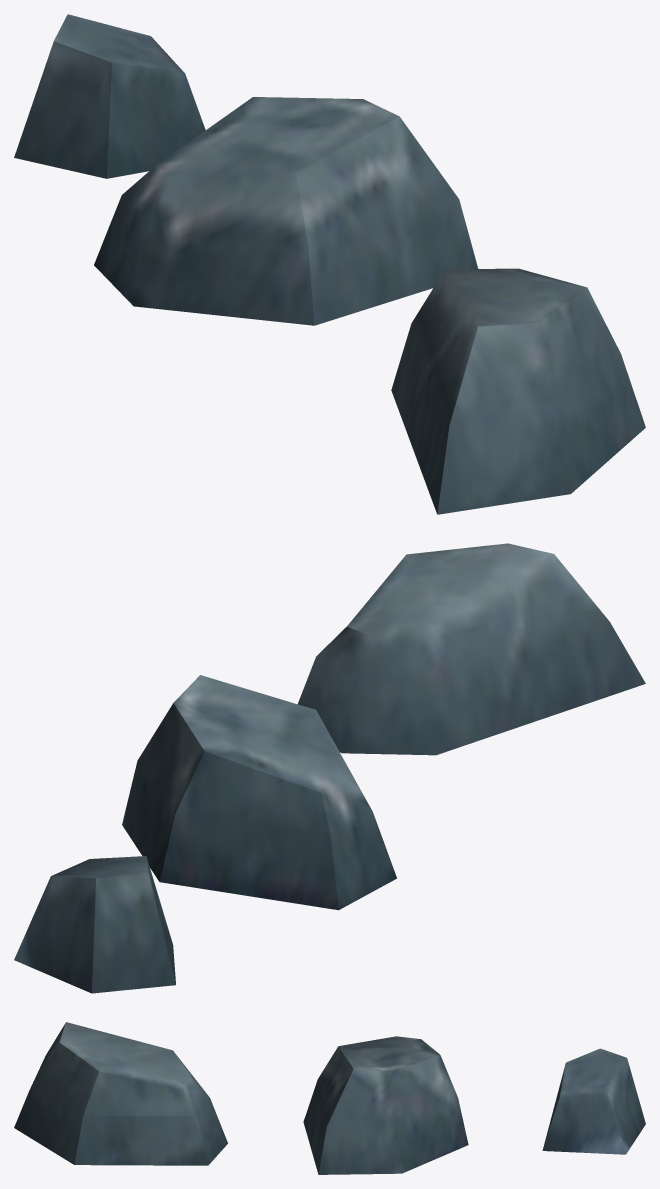
3 renders of one model, top to bottom at view 1: azimuth 30°, elevation 25°; view 2: azimuth 150°, elevation 25°; view 3: azimuth 270°, elevation 25°, orthographic. The views are drawn at different scales.
Parts seen in each view (by area): view 1: polySurface1; view 2: polySurface1; view 3: polySurface1.
Boxes of the visible parts, left/top/right/bottom form: polySurface1: left=14, top=14, right=645, bottom=514; polySurface1: left=14, top=543, right=645, bottom=993; polySurface1: left=14, top=1022, right=645, bottom=1174.
Bounding box in the file's own units: 6.19 × 3 × 18.88.
